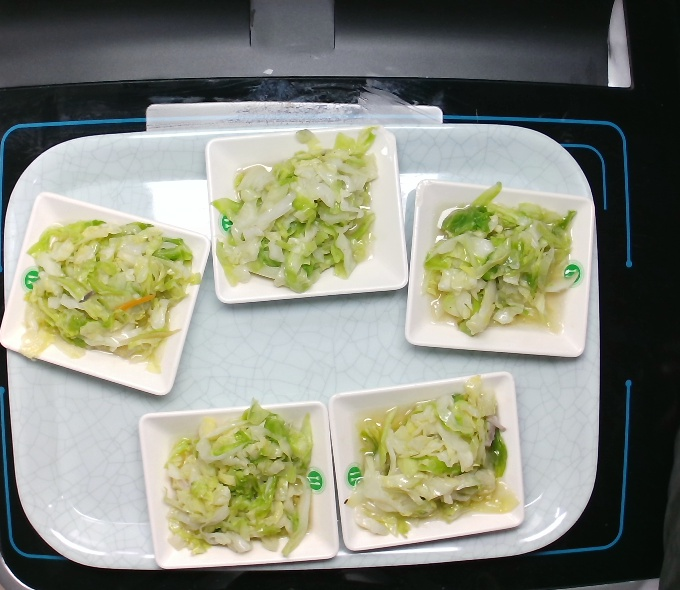wcq-JuanXinCai: (333, 374, 516, 542), (209, 125, 391, 292), (25, 215, 205, 370), (148, 401, 328, 556), (428, 184, 583, 343)
